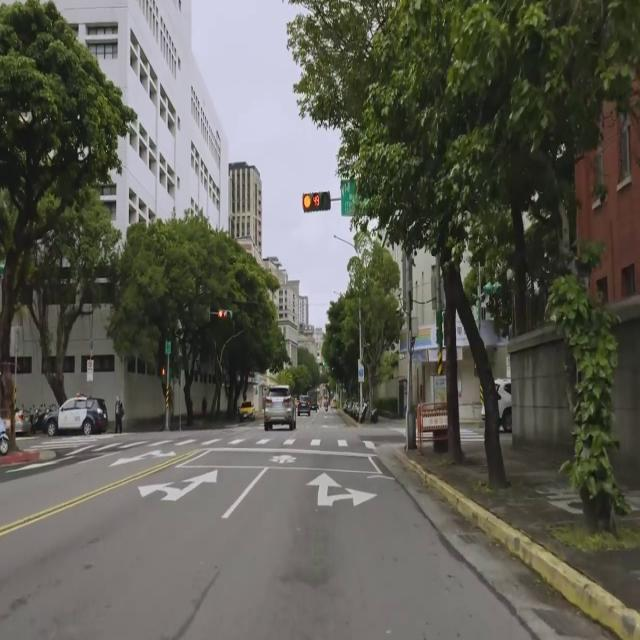red light: (302, 192, 330, 212), (218, 308, 233, 321)
